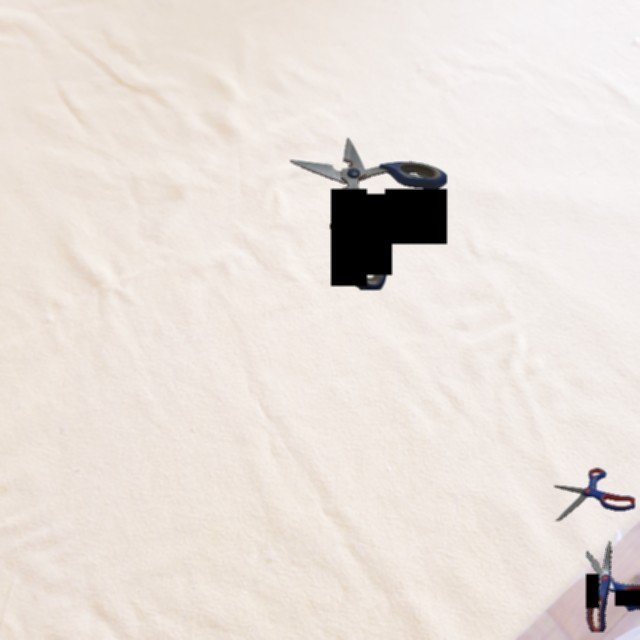scissors: (290, 138, 447, 290), (586, 541, 640, 632), (554, 468, 635, 521)
